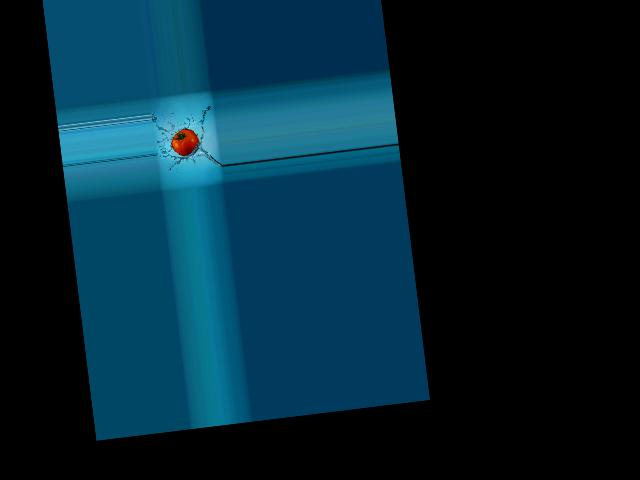tomato: (169, 127, 200, 157)
